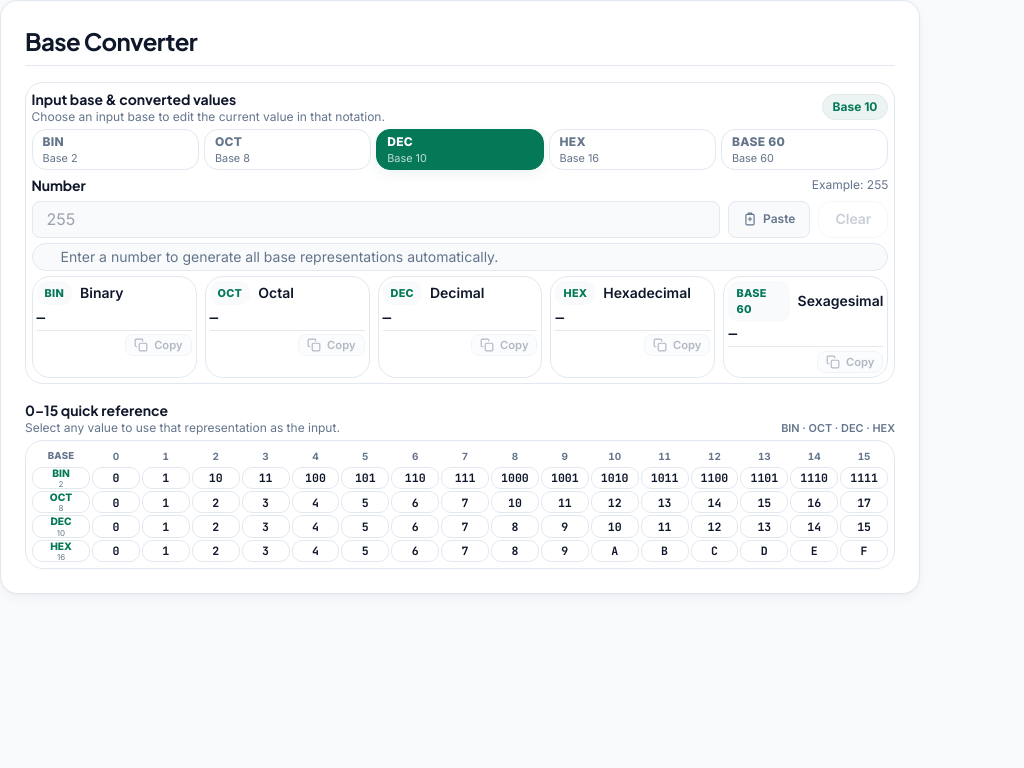
it: converter clipboard controls › pastes into the Base Converter and exposes clipboard failures as retry actions
The width and height of the screenshot is (1024, 768).
Click the button with aria-label "Paste from clipboard" at [769, 220], box x1=728 y1=201 x2=810 y2=238
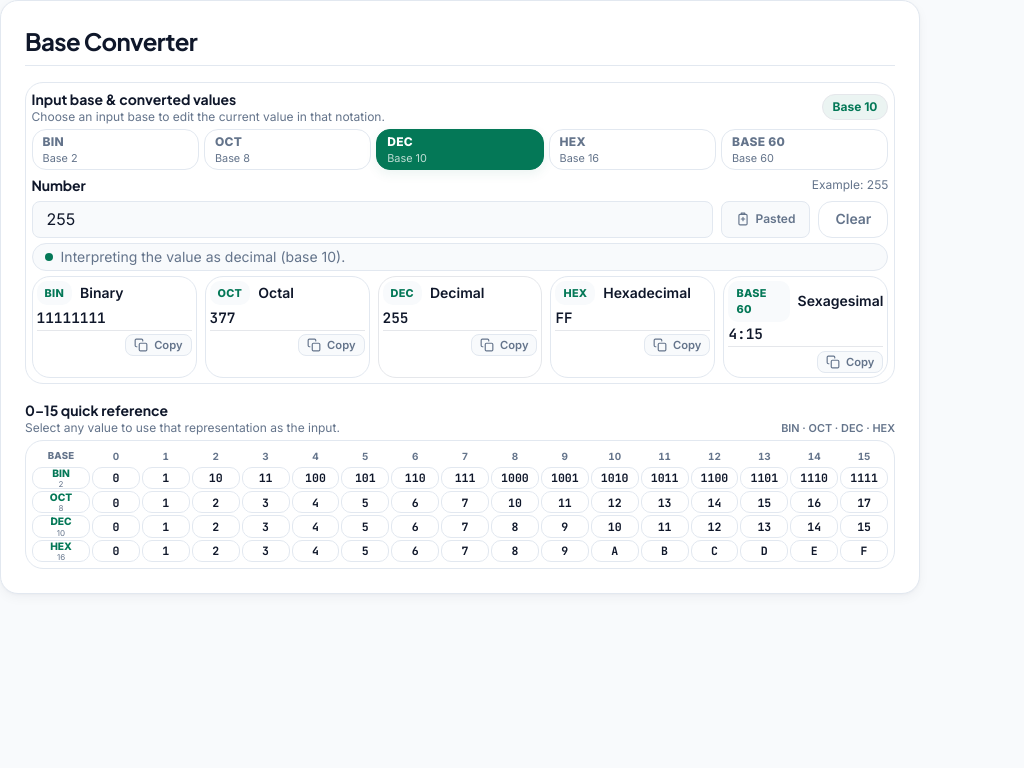
Expected: the field with id "base-input" holds "255", x1=32 y1=201 x2=713 y2=238
Expected: the button with aria-label "Paste from clipboard" reads "Pasted", x1=721 y1=201 x2=810 y2=238
Click the button with aria-label "Copy Hexadecimal value" at [677, 345], box x1=644 y1=334 x2=710 y2=356
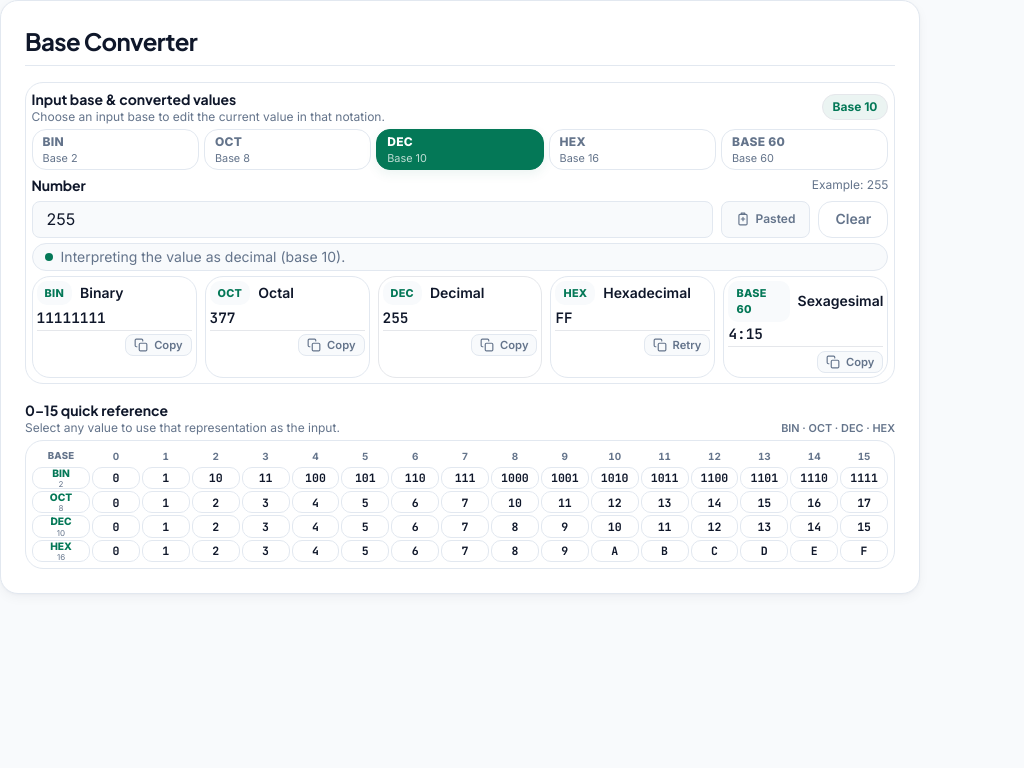
Expected: the button named "Copy Hexadecimal value" reads "Retry", x1=644 y1=334 x2=710 y2=356
